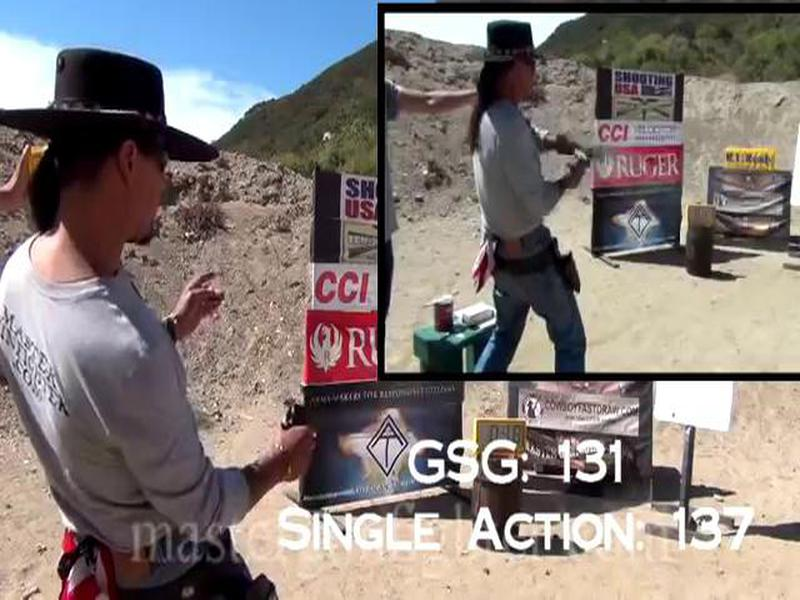Pistola: (273, 390, 349, 471)
